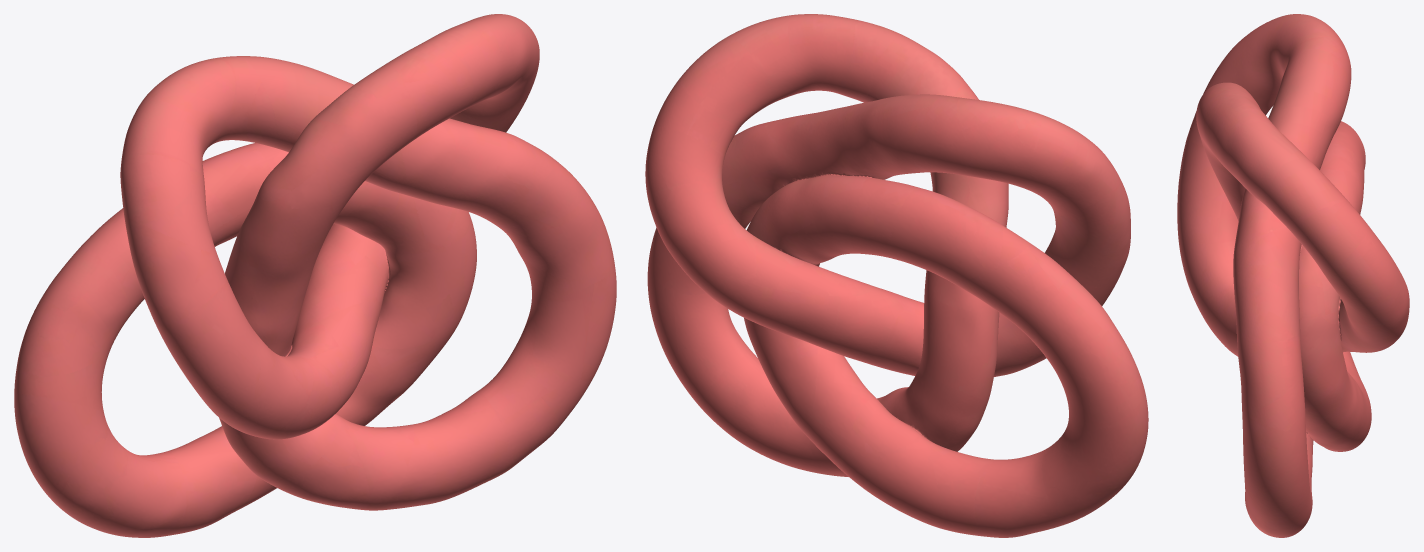
File: aura_emotion_pink_v2-H2HIPMnI.glb
3 views of the same model, side by side, from view 1: azimuth 30°, elevation 25°; view 2: azimuth 150°, elevation 25°; view 3: azimuth 270°, elevation 25° (orthographic). The views are drawn at different scales.
Parts seen in each view (by area): view 1: mesh_node; view 2: mesh_node; view 3: mesh_node.
Boxes of the visible parts, x1=… form: mesh_node: x1=14, y1=14, x2=616, y2=537; mesh_node: x1=645, y1=14, x2=1148, y2=537; mesh_node: x1=1177, y1=14, x2=1409, y2=537.
Bounding box in the file's own units: 1.52 × 1.24 × 0.623.
1 material, 1 textured.
